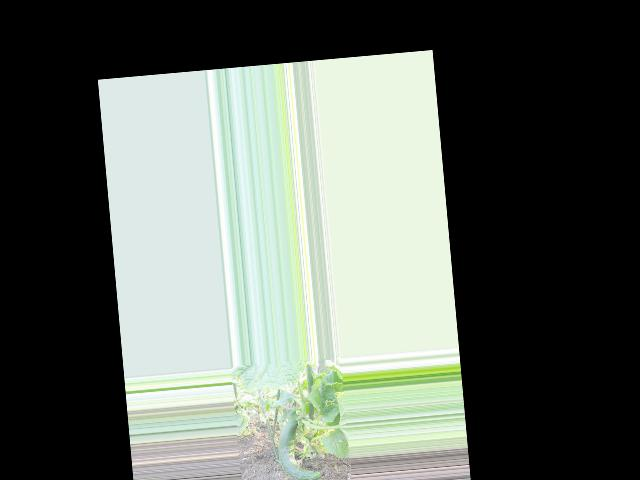cucumber: (275, 416, 322, 480)
